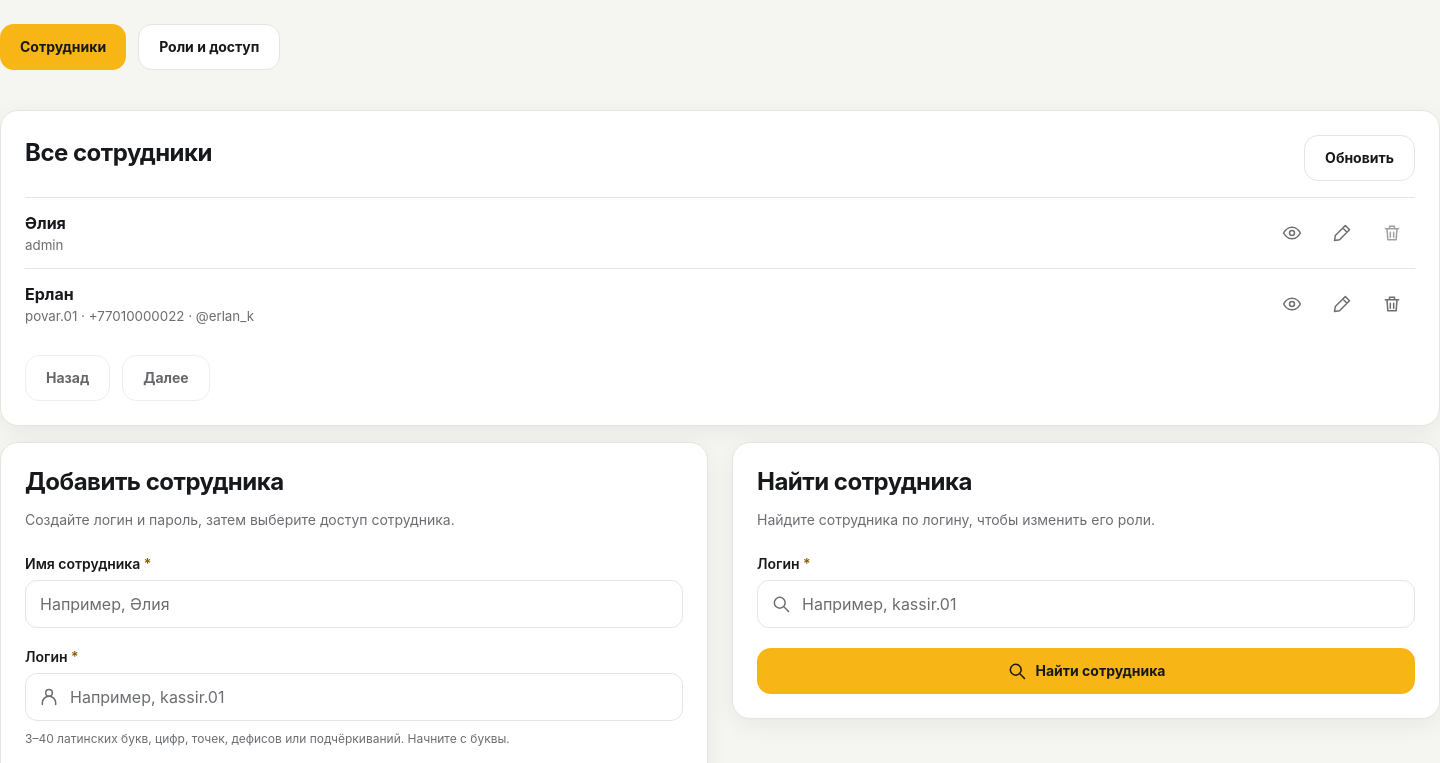
Test: администратор меняет телефон и Telegram; неверный ник не отправляется
Click the button named "Изменить: Ерлан" at (1342, 304), box [1319,281,1365,327]
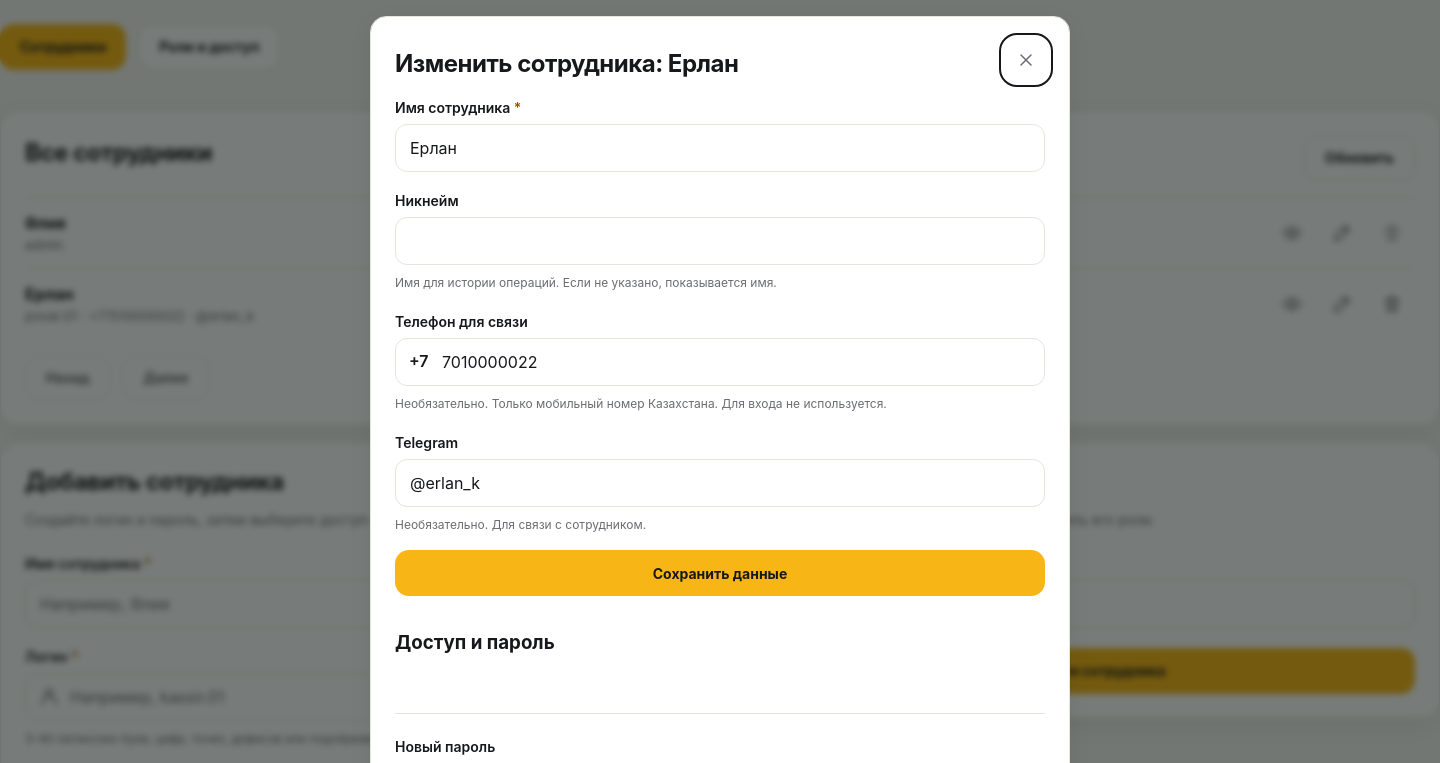
Replace the text in the field labelled "Telegram" with "@ab" at (720, 483), box [395,459,1045,507]
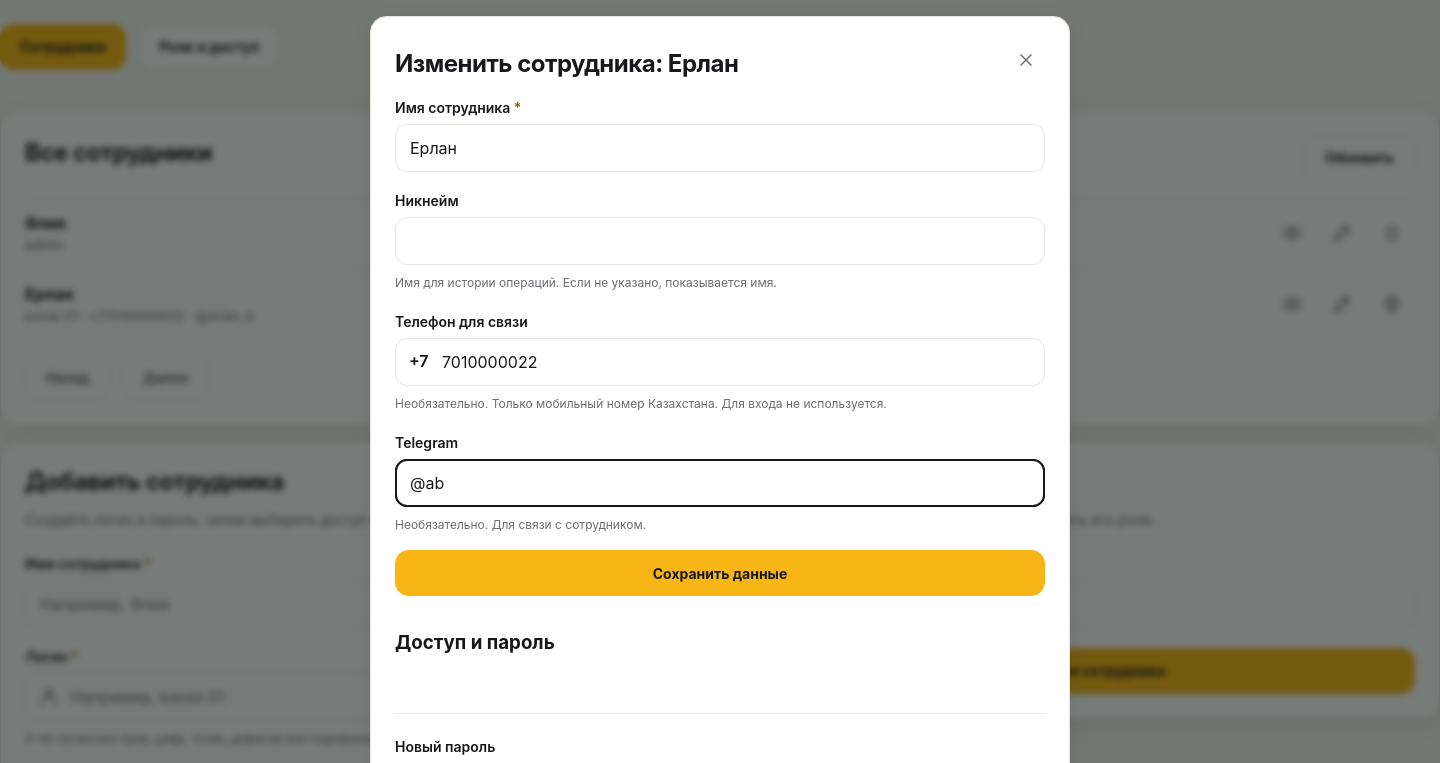
Click the button "Сохранить данные" at (720, 573), box [395,550,1045,596]
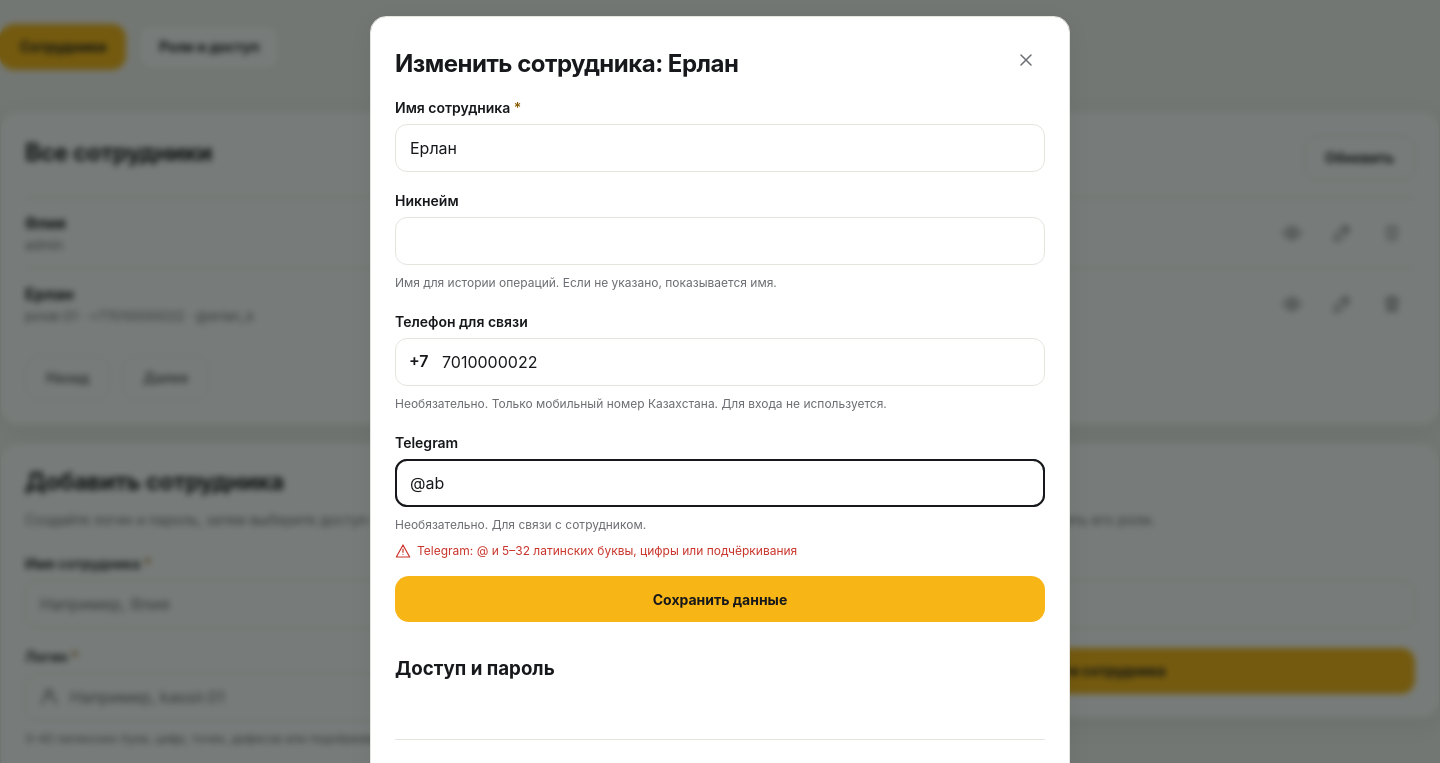
Replace the text in the field labelled "Telegram" with "erlan_new" at (720, 483), box [395,459,1045,507]
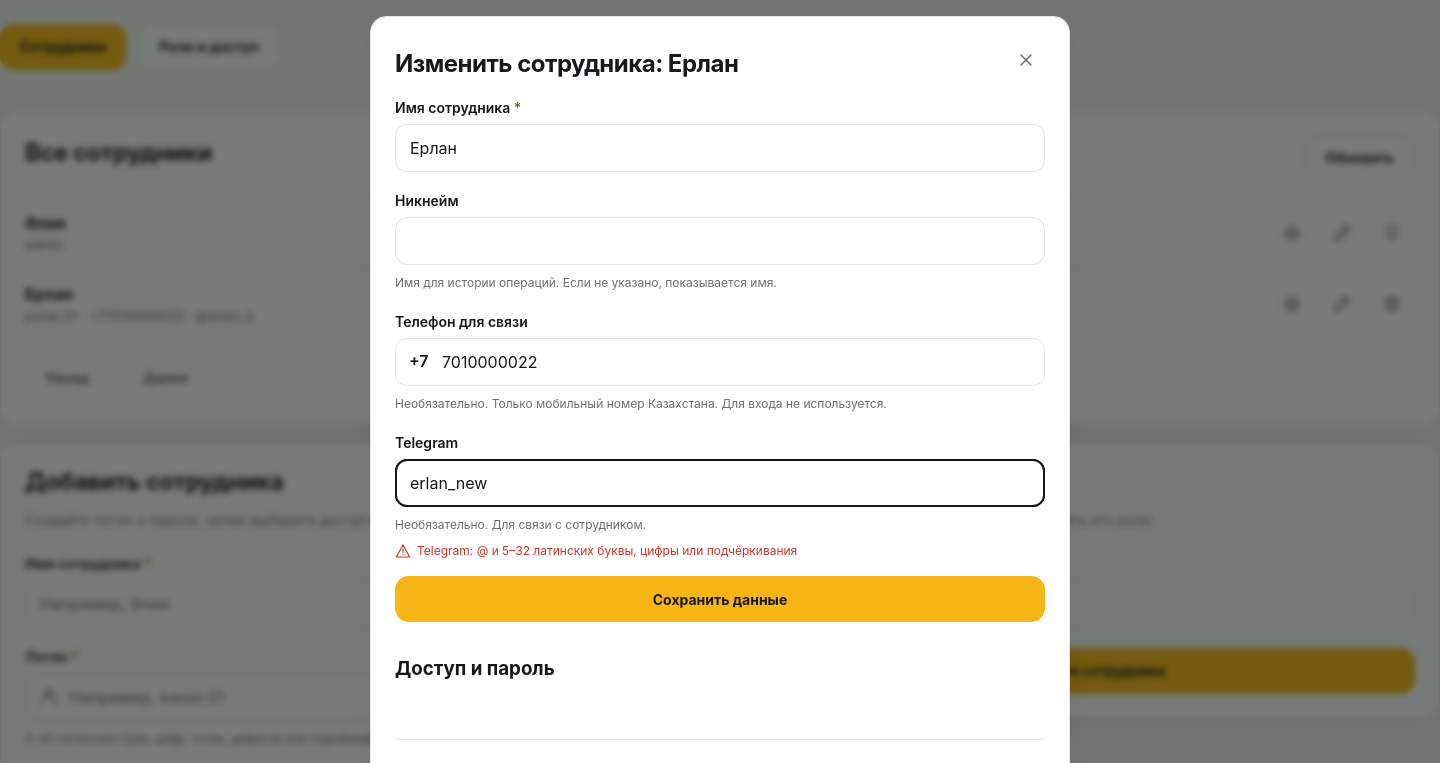
Click the button "Сохранить данные" at (720, 599), box [395,576,1045,622]
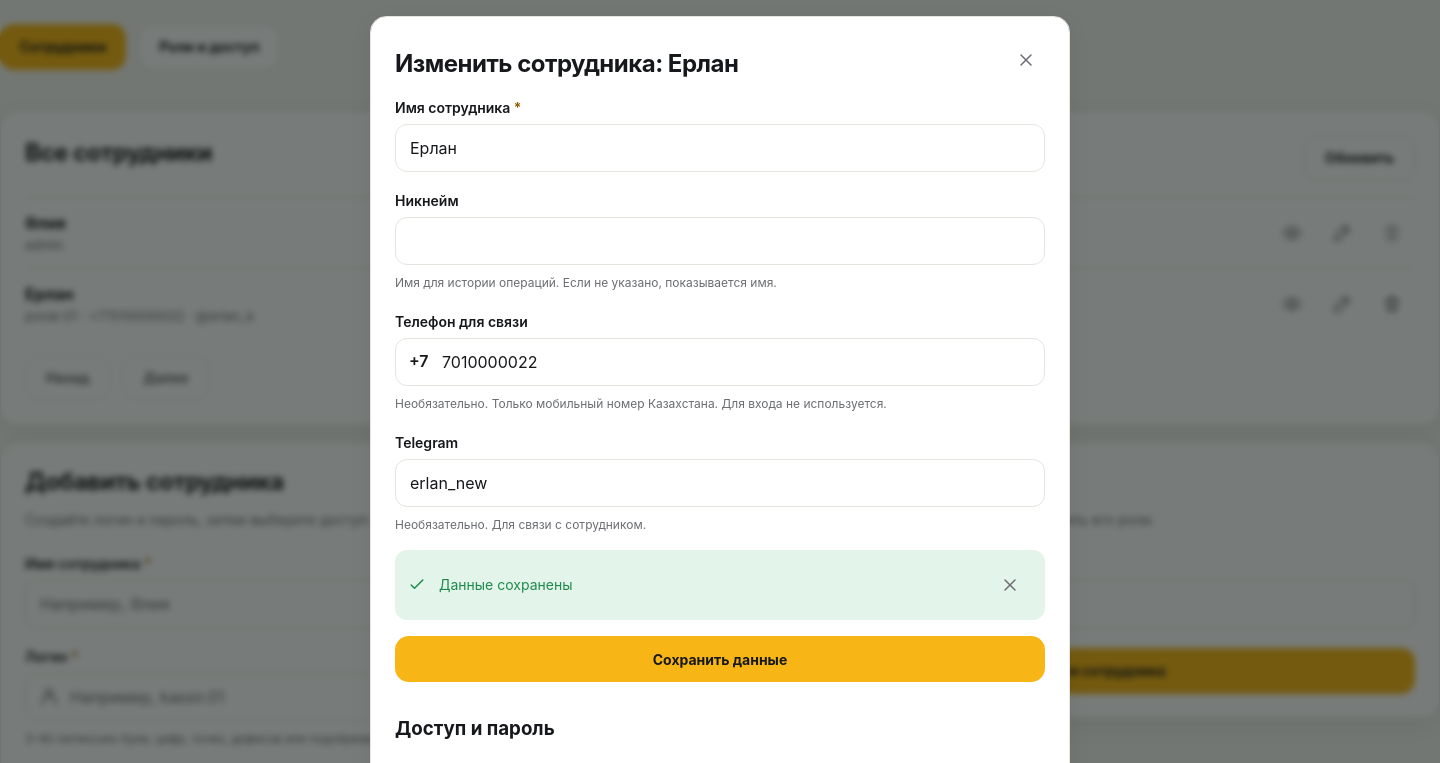
Now the text "Данные сохранены" is shown, box [439,576,572,593]
